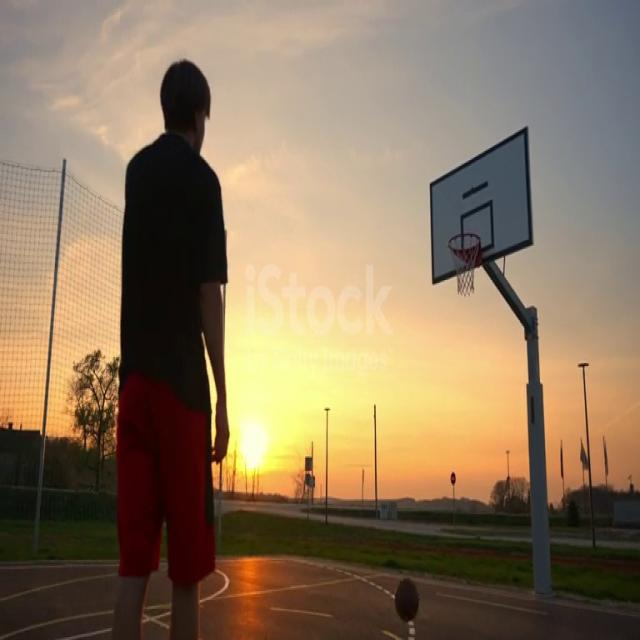ball: (394, 576, 420, 622)
